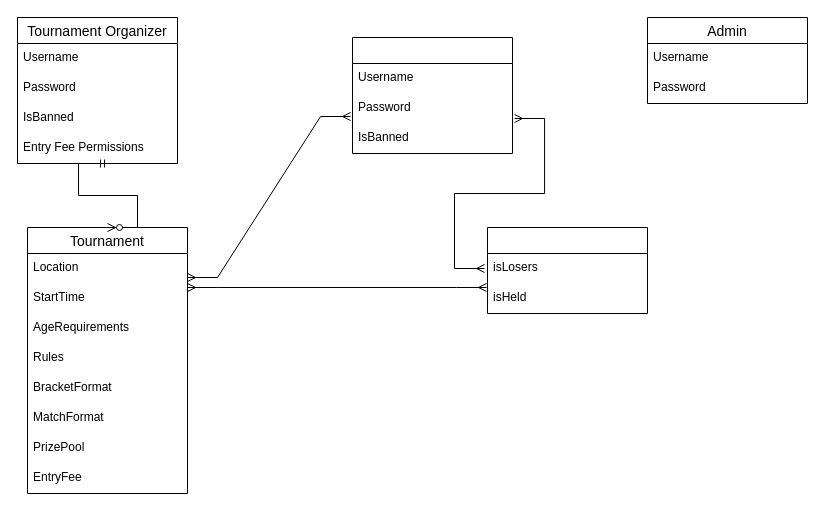
This 825x514 diagram has some shape labels left out. The box of each missing label's shape, as (x1, y1, x2, y2) in pixels:
Match: (486, 226, 648, 314)
Player: (352, 36, 512, 154)
